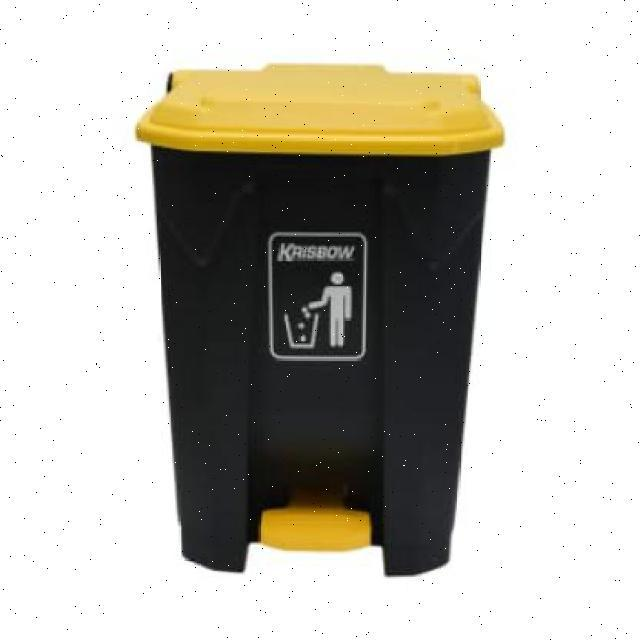garbage container: (133, 49, 522, 591)
